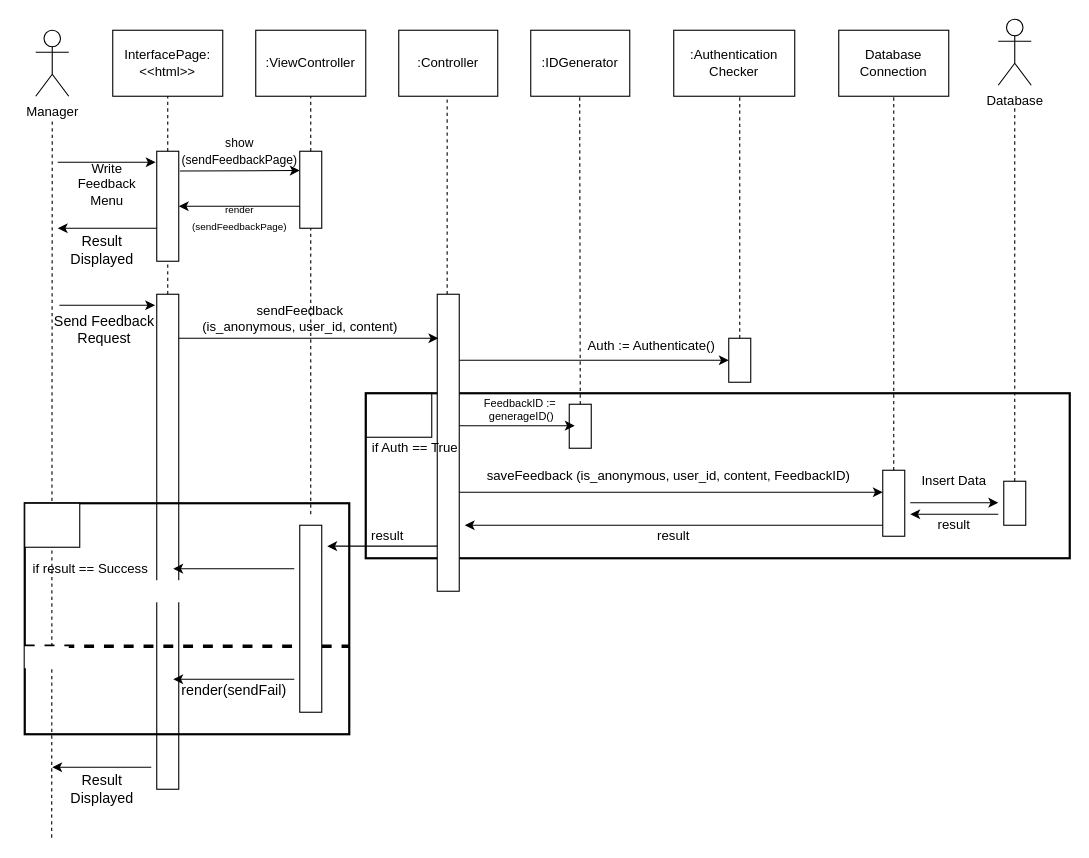
Some shapes in this 1089 by 858 pixel diagram are drawn without their labels. The centre of each missing label's shape, as x and y in pixels:
"[ Else ]" belongs at (46,657).
"ALT" belongs at (52,524).
"OPT" belongs at (398,414).
"render(sendSuccess)" belongs at (228,591).
